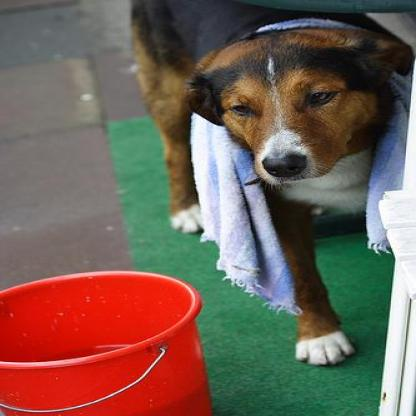Appenzeller: (125, 0, 412, 364)
